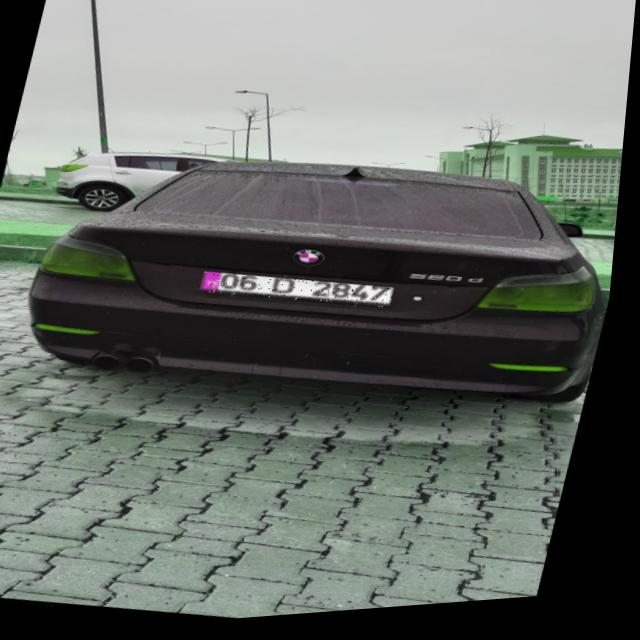license_plate: (203, 264, 402, 326)
